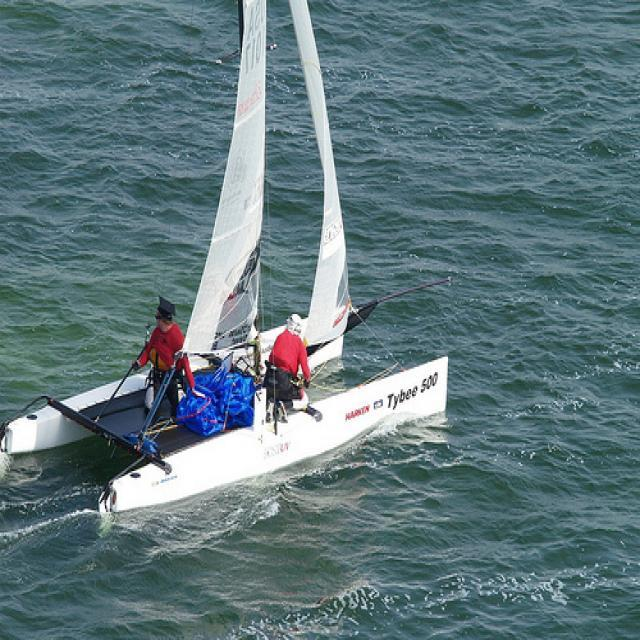Ship: (5, 1, 460, 511)
